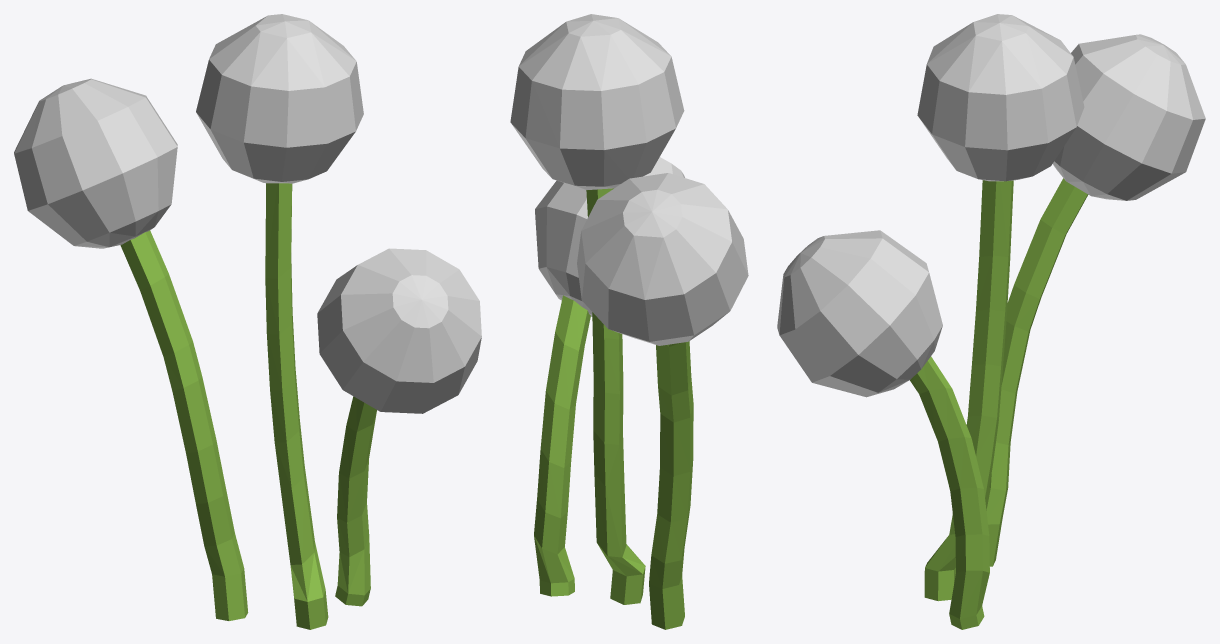
The model's file is dandelions.glb.
3 views of the same model, side by side, from view 1: azimuth 30°, elevation 25°; view 2: azimuth 150°, elevation 25°; view 3: azimuth 270°, elevation 25° (orthographic). The views are drawn at different scales.
Visible parts, largest first — view 1: Node; view 2: Node; view 3: Node.
Part boxes in pixels (bbox=[...]): Node: bbox=[14, 14, 481, 629]; Node: bbox=[510, 14, 748, 629]; Node: bbox=[777, 14, 1205, 629].
Bounding box in the file's own units: 0.1057 × 0.1867 × 0.1259.
